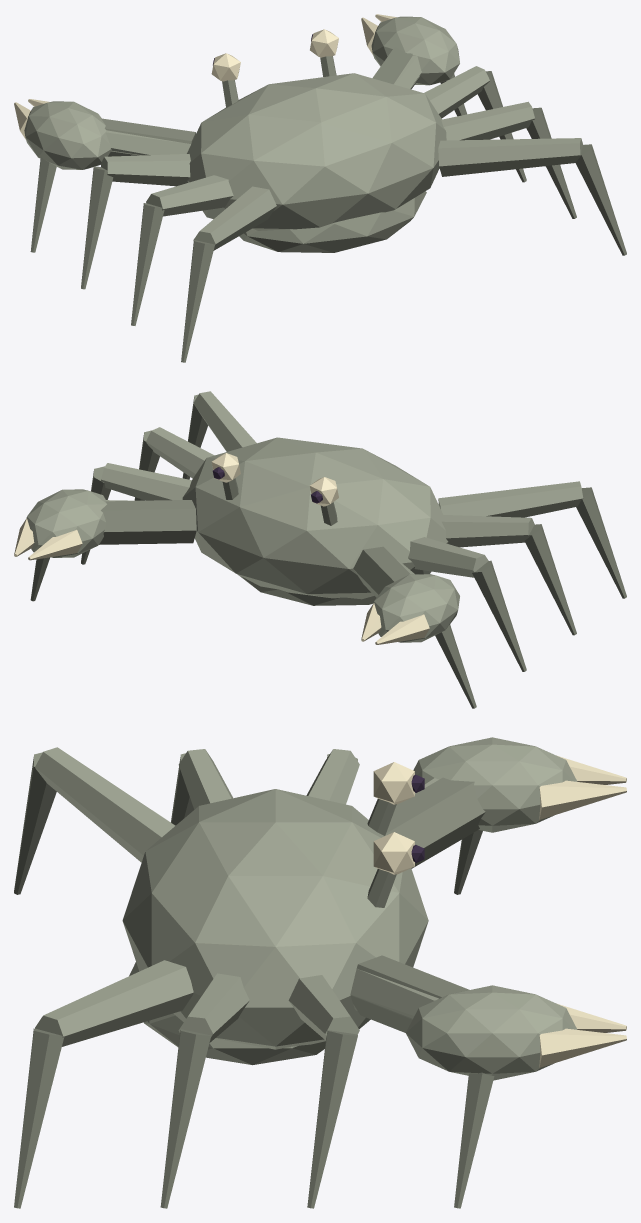
File: RockCrab.fbx
3 views of the same model, one above another, from view 1: azimuth 30°, elevation 25°; view 2: azimuth 150°, elevation 25°; view 3: azimuth 270°, elevation 25° (orthographic). The views are drawn at different scales.
Parts seen in each view (by area): view 1: Carapace, Claw1, LegUpper-1_3, Abdomen, Claw-1, LegUpper1_3, LegUpper1_1, LegUpper-1_2, LegUpper1_2, LegTip1_3, LegTip1_2, LegUpper-1_1 (+11 smaller); view 2: Carapace, Arm-1, Claw1, Claw-1, LegUpper1_3, LegUpper1_2, LegUpper-1_1, LegUpper1_1, LegUpper-1_3, LegUpper-1_2, Arm1, LegTip1_1 (+13 smaller); view 3: Carapace, Claw-1, Claw1, LegUpper-1_3, LegUpper1_3, Arm1, LegTip-1_3, LegTip-1_2, LegTip-1_1, Arm-1, Abdomen, LegUpper-1_2 (+16 smaller).
Part boxes in pixels (bbox=[...]): Carapace: bbox=[187, 73, 446, 230]; Claw1: bbox=[24, 101, 111, 169]; LegUpper-1_3: bbox=[438, 138, 583, 176]; Abdomen: bbox=[239, 191, 426, 252]; Claw-1: bbox=[371, 16, 459, 85]; LegUpper1_3: bbox=[193, 186, 276, 250]; LegUpper1_1: bbox=[101, 154, 190, 186]; LegUpper-1_2: bbox=[441, 101, 534, 140]; LegUpper1_2: bbox=[146, 175, 233, 216]; LegTip1_3: bbox=[181, 240, 214, 362]; LegTip1_2: bbox=[131, 203, 164, 325]; LegUpper-1_1: bbox=[424, 66, 489, 118]; Carapace: bbox=[182, 437, 448, 599]; Arm-1: bbox=[99, 500, 196, 544]; Claw1: bbox=[373, 574, 459, 642]; Claw-1: bbox=[26, 489, 106, 557]; LegUpper1_3: bbox=[438, 481, 583, 517]; LegUpper1_2: bbox=[441, 515, 534, 547]; LegUpper-1_1: bbox=[101, 463, 191, 500]; LegUpper1_1: bbox=[408, 537, 488, 577]; LegUpper-1_3: bbox=[193, 391, 256, 451]; LegUpper-1_2: bbox=[146, 427, 214, 478]; Arm1: bbox=[353, 546, 409, 597]; LegTip1_1: bbox=[472, 560, 526, 671]; Carapace: bbox=[122, 789, 428, 1049]; Claw-1: bbox=[406, 985, 577, 1080]; Claw1: bbox=[413, 737, 577, 832]; LegUpper-1_3: bbox=[35, 960, 193, 1046]; LegUpper1_3: bbox=[35, 747, 175, 862]; Arm1: bbox=[386, 777, 485, 868]; LegTip-1_3: bbox=[14, 1028, 64, 1208]; LegTip-1_2: bbox=[160, 1029, 211, 1208]; LegTip-1_1: bbox=[307, 1030, 357, 1208]; Arm-1: bbox=[350, 955, 469, 1032]; Abdomen: bbox=[129, 962, 325, 1065]; LegUpper-1_2: bbox=[178, 973, 249, 1042].
Bounding box in the file's own units: 0.7089 × 0.2639 × 0.5766.
